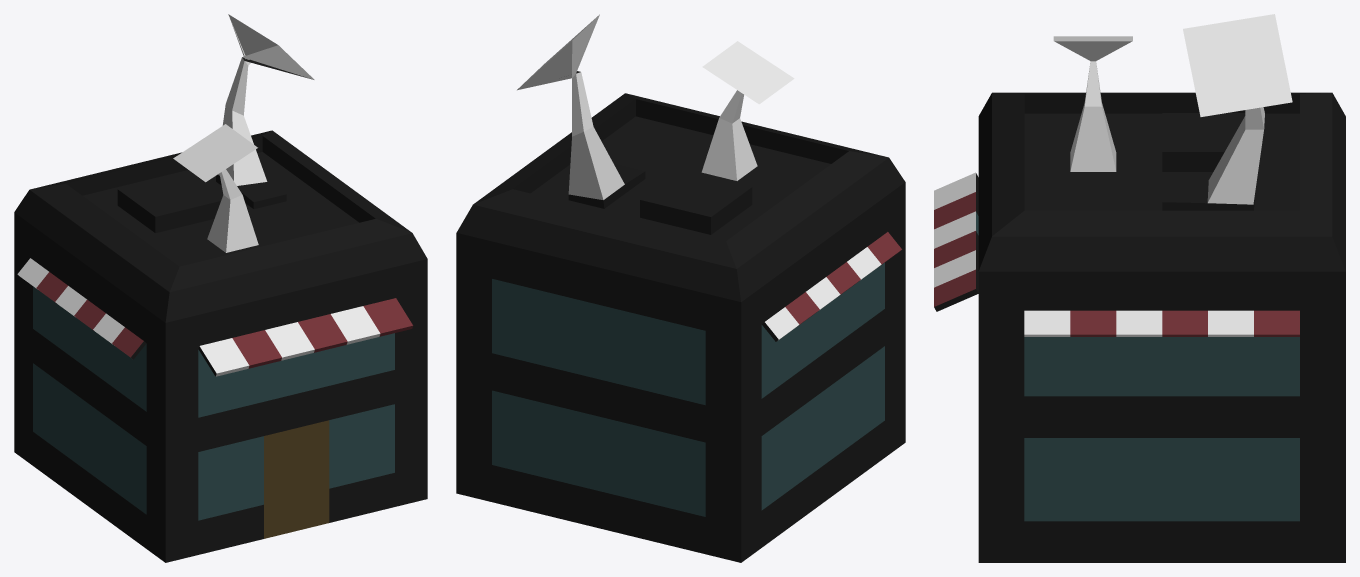
File: house1.fbx
The picture shows the model from 3 angles, left to right: view 1: azimuth 30°, elevation 25°; view 2: azimuth 150°, elevation 25°; view 3: azimuth 270°, elevation 25°; orthographic projection. The views are drawn at different scales.
Visible parts, largest first — view 1: Cube; view 2: Cube; view 3: Cube.
Boxes of the visible parts, x1,y1,x2,y2 form: Cube: [14, 14, 427, 562]; Cube: [456, 14, 905, 562]; Cube: [934, 14, 1345, 562].
Bounding box in the file's own units: 225 × 302 × 224.
